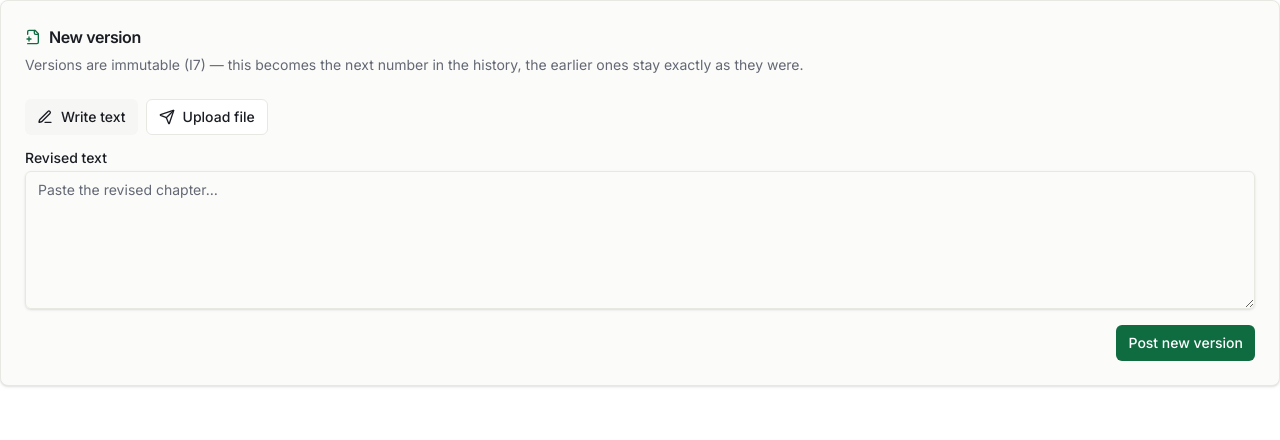
VersionComposer (§11.5 new version, task 11.3 history) › surfaces a failed append instead of pretending success (Rule 3)
Type "text" into the text box labelled "Revised text" at (640, 240), box [25,171,1255,309]
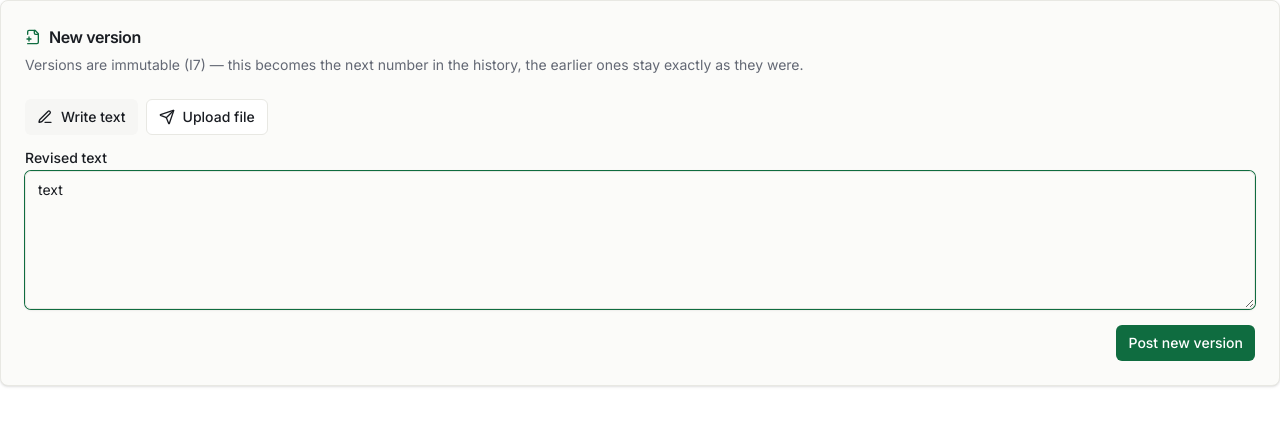
Click the button "Post new version" at (1186, 343), box [1116,325,1255,361]
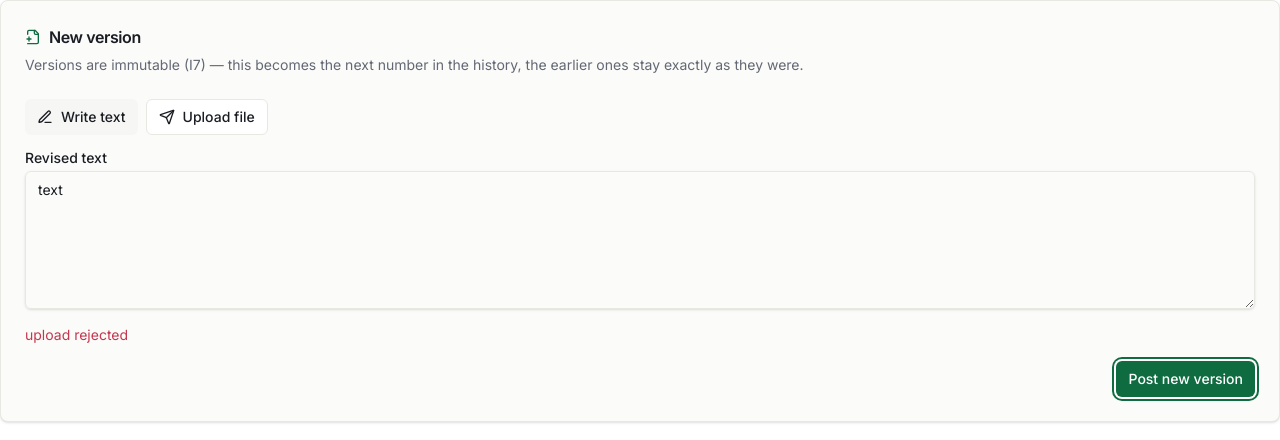
Now the message reads "upload rejected", box [25,326,128,343]
